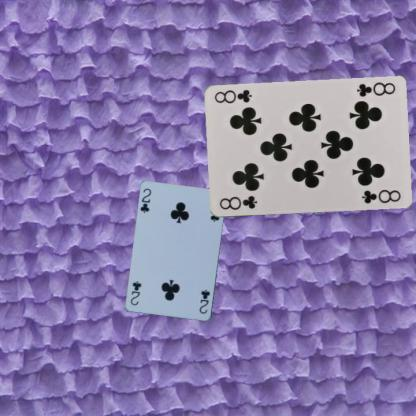2c: (138, 186, 153, 214), (197, 287, 211, 316)
8c: (354, 80, 396, 99), (217, 193, 258, 211)
